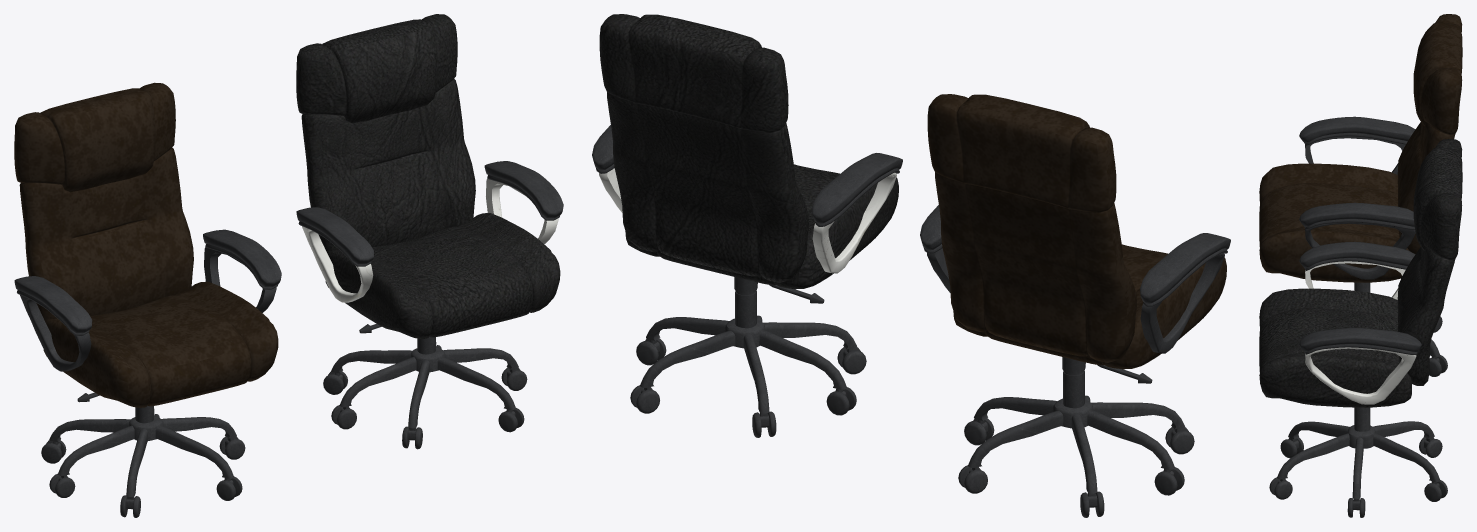
File: sf-ch-renend.glb
3 renders of one model, left to right at view 1: azimuth 30°, elevation 25°; view 2: azimuth 150°, elevation 25°; view 3: azimuth 270°, elevation 25°, orthographic. The views are drawn at different scales.
Parts seen in each view (by area): view 1: SM_Sandalye_2_0, SM_Sandalye_2.001_1; view 2: SM_Sandalye_2_0, SM_Sandalye_2.001_1; view 3: SM_Sandalye_2_0, SM_Sandalye_2.001_1.
Boxes of the visible parts, left/top/right/bottom form: SM_Sandalye_2_0: left=296, top=14, right=563, bottom=449; SM_Sandalye_2.001_1: left=14, top=82, right=281, bottom=517; SM_Sandalye_2_0: left=592, top=14, right=902, bottom=437; SM_Sandalye_2.001_1: left=920, top=94, right=1230, bottom=517; SM_Sandalye_2_0: left=1259, top=139, right=1462, bottom=517; SM_Sandalye_2.001_1: left=1259, top=14, right=1462, bottom=376.
Size of the model in its own units: 2.01 by 1.32 by 0.781.
1 material, 1 textured.
